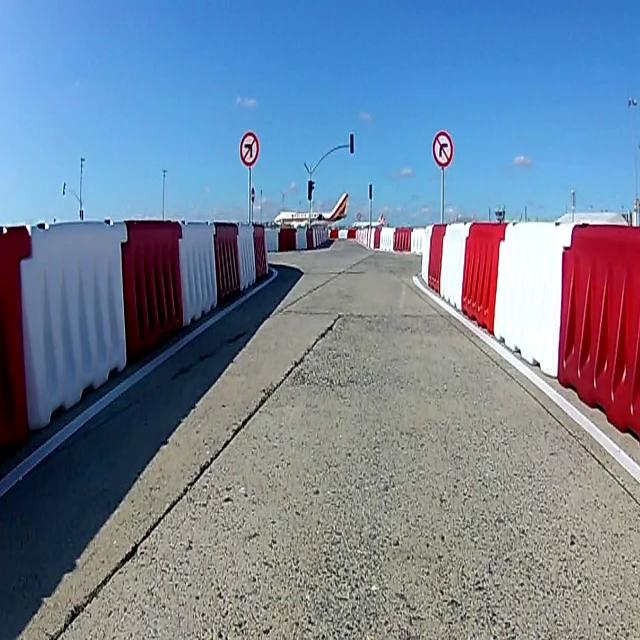sagadonulmez: (433, 131, 454, 169)
soladonulmez: (238, 131, 261, 165)
